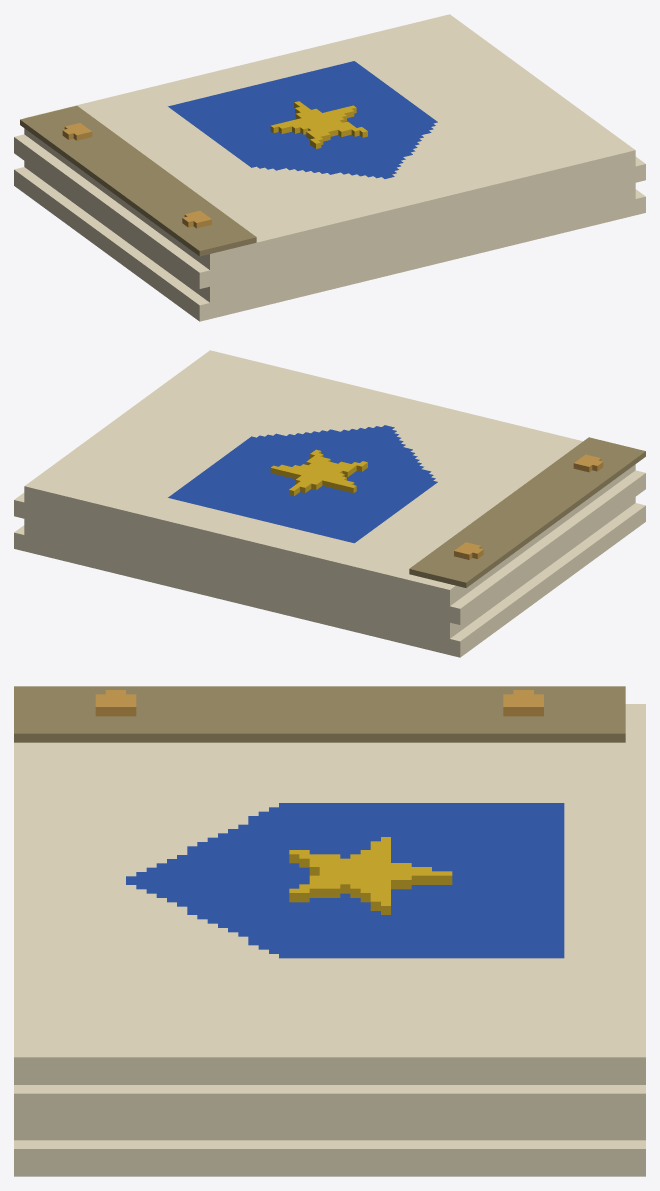
Rendered from state_flag.glb.
The picture shows the model from 3 angles, top to bottom: view 1: azimuth 30°, elevation 25°; view 2: azimuth 150°, elevation 25°; view 3: azimuth 270°, elevation 25°; orthographic projection. The views are drawn at different scales.
Parts seen in each view (by area): view 1: state_flag:compound; view 2: state_flag:compound; view 3: state_flag:compound.
Boxes of the visible parts, bbox=[...] form: state_flag:compound: bbox=[14, 14, 645, 321]; state_flag:compound: bbox=[14, 350, 645, 657]; state_flag:compound: bbox=[14, 686, 645, 1176].
Bounding box in the file's own units: 0.344 × 0.056 × 0.248.
